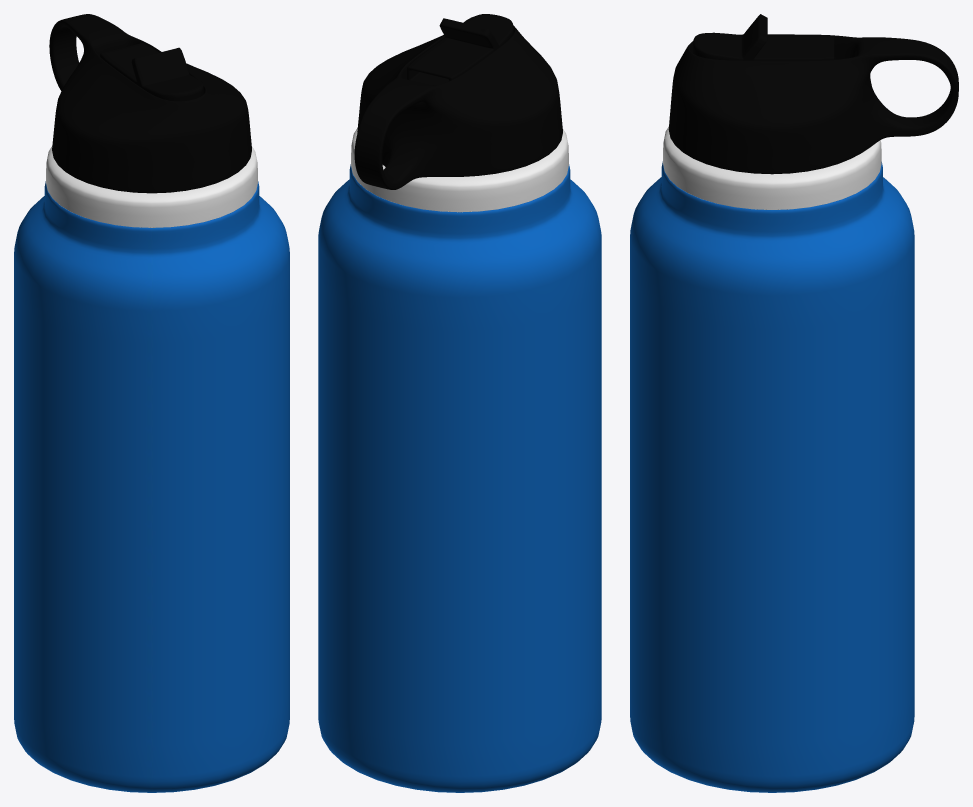
The model's file is mug-transformed.glb.
3 renders of one model, left to right at view 1: azimuth 30°, elevation 25°; view 2: azimuth 150°, elevation 25°; view 3: azimuth 270°, elevation 25°, orthographic. The views are drawn at different scales.
Parts seen in each view (by area): view 1: main_Baked, top_Baked, middle_Baked, mouth_Baked; view 2: main_Baked, top_Baked, middle_Baked, mouth_Baked; view 3: main_Baked, top_Baked, middle_Baked, mouth_Baked.
Boxes of the visible parts, x1,y1,x2,y2 form: main_Baked: (14, 181, 289, 792); top_Baked: (49, 14, 251, 193); middle_Baked: (46, 146, 257, 227); mouth_Baked: (100, 43, 203, 101); main_Baked: (318, 164, 601, 792); top_Baked: (354, 25, 562, 189); middle_Baked: (351, 128, 568, 212); mouth_Baked: (407, 14, 513, 85); main_Baked: (630, 161, 914, 792); top_Baked: (668, 34, 958, 174); middle_Baked: (663, 126, 881, 209); mouth_Baked: (693, 14, 834, 60).
Size of the model in its own units: 0.1274 by 0.3534 by 0.1472.
Materials: 1 (1 with a texture image).
